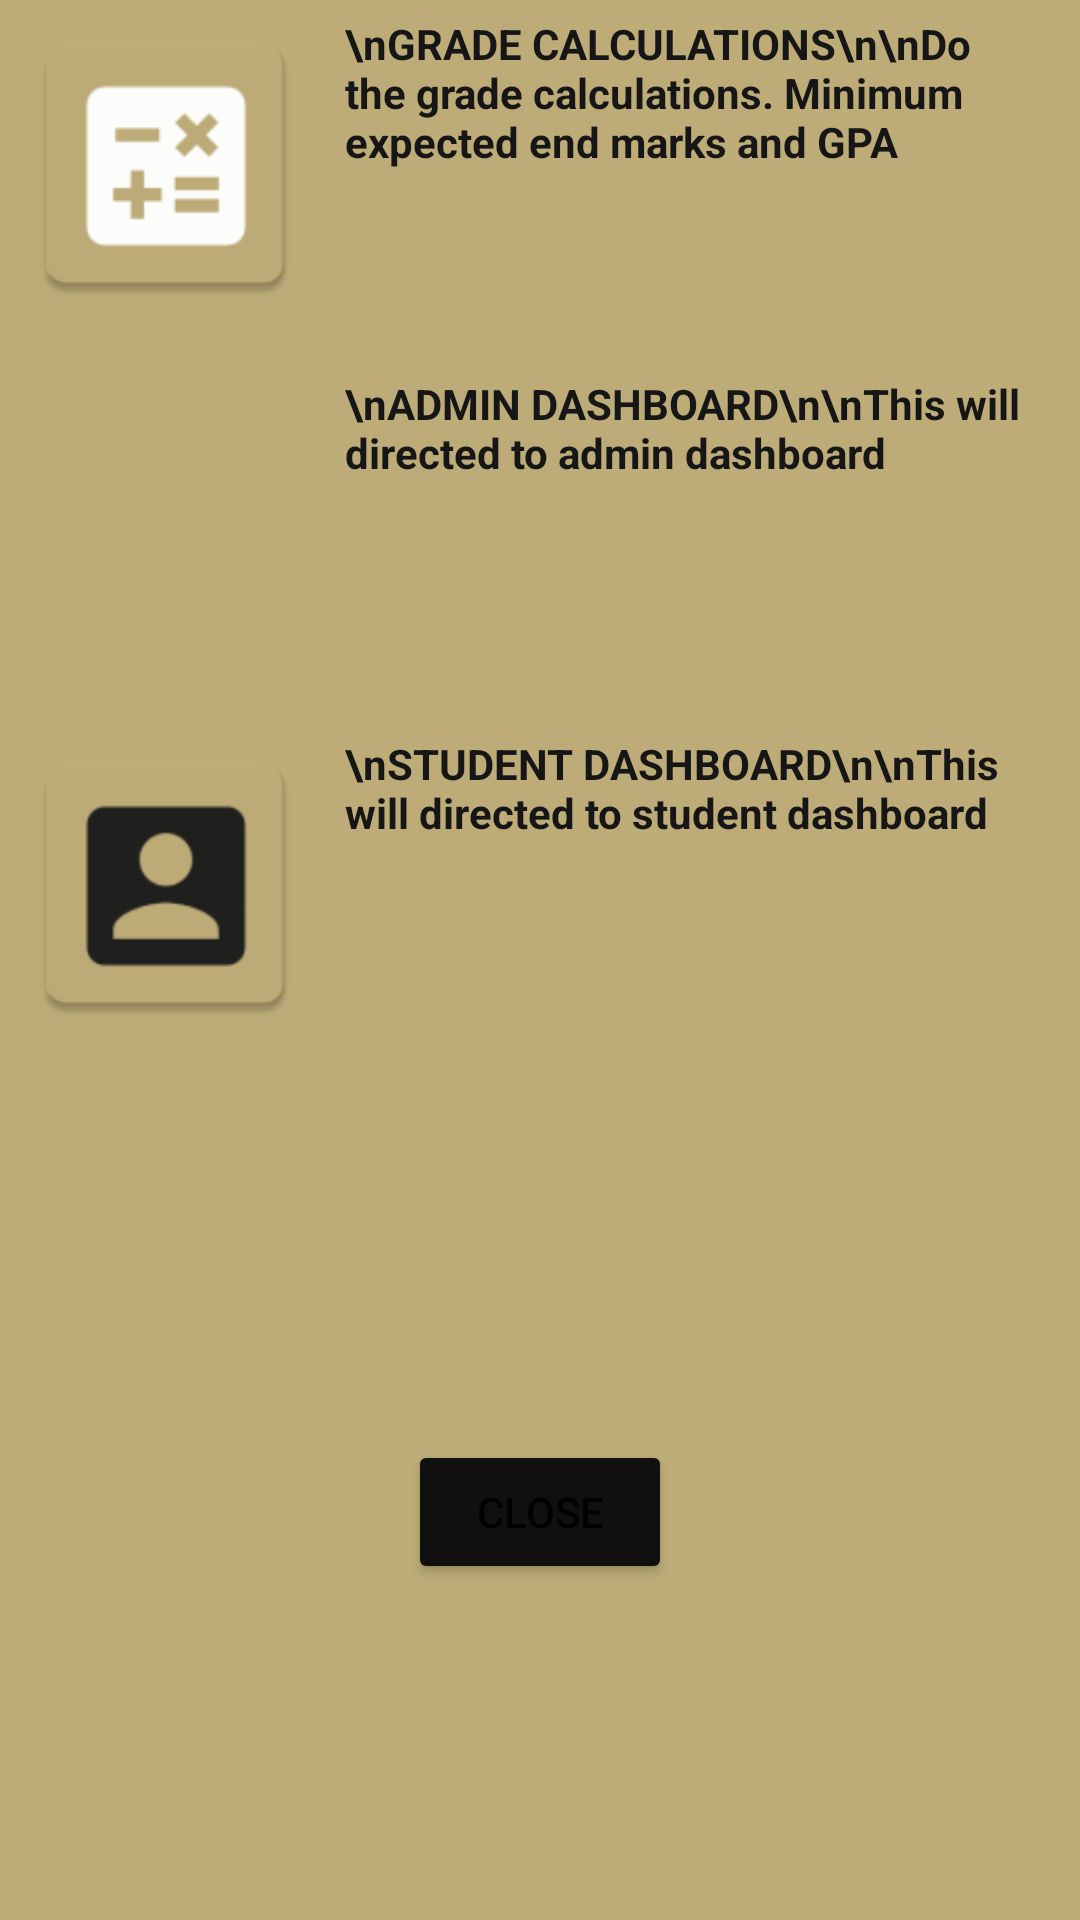

Icons on this 1080 x 1920 Android screen, each with its box as [x1, y1, x2, y2]:
calculate: [48, 86, 284, 290]
